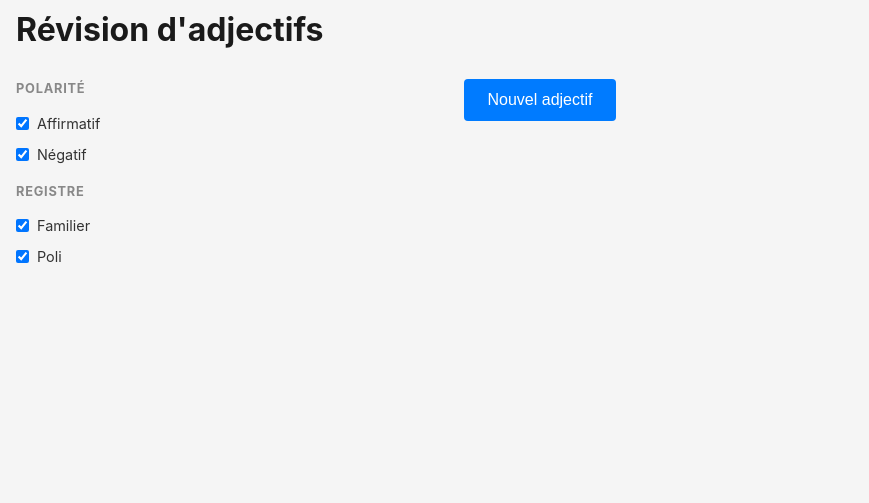
Test: AdjectiveRevisionPage › when incorrect answer submitted, then shows failure feedback with correct answer
The image size is (869, 503).
Click the button "Nouvel adjectif" at (540, 100), box [464,79,616,121]
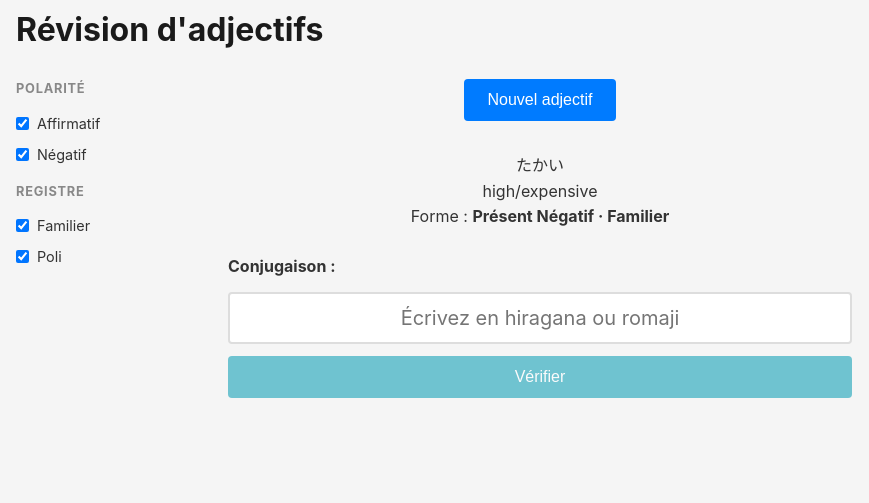
Expected: the field labelled "Conjugaison :" is shown
Type "wrong answer" into the field labelled "Conjugaison :" at (540, 318), box [228,292,852,344]
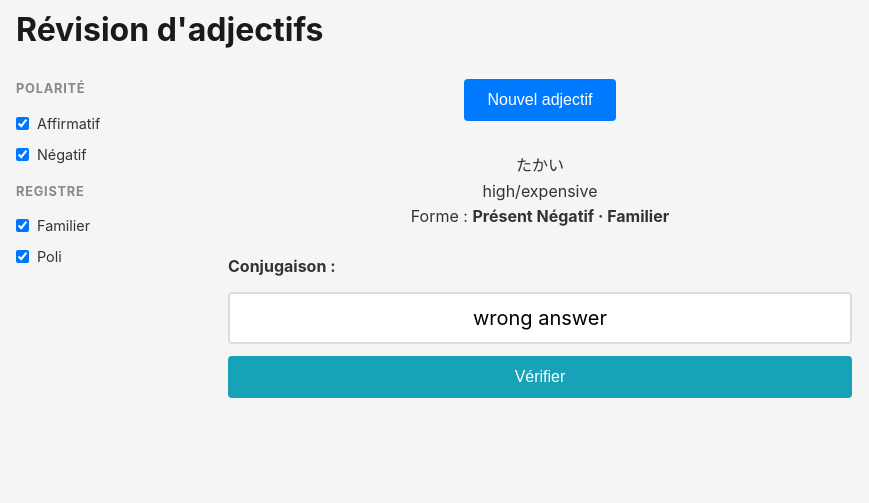
Click the button "Vérifier" at (540, 377), box [228,356,852,398]
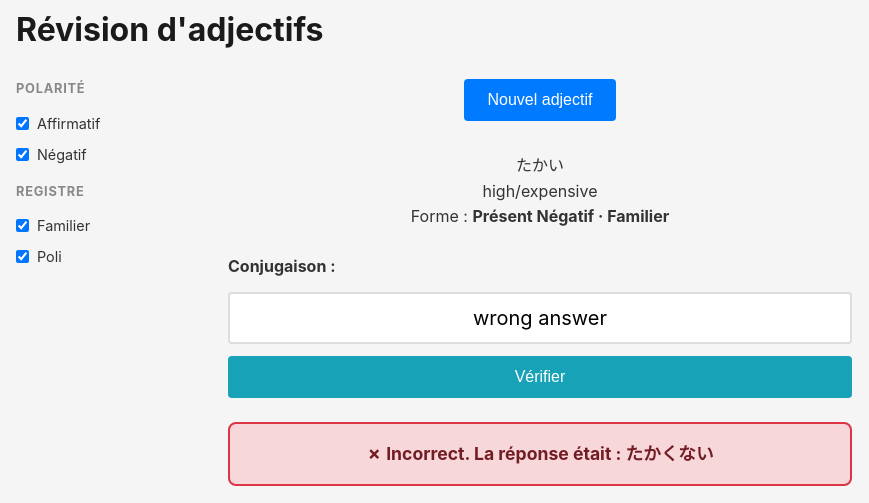
Expected: the text "✗ Incorrect. La réponse était : たかくない" is shown, [228,422,852,486]
Expected: the text "たかくない" is shown, [626,443,714,464]
